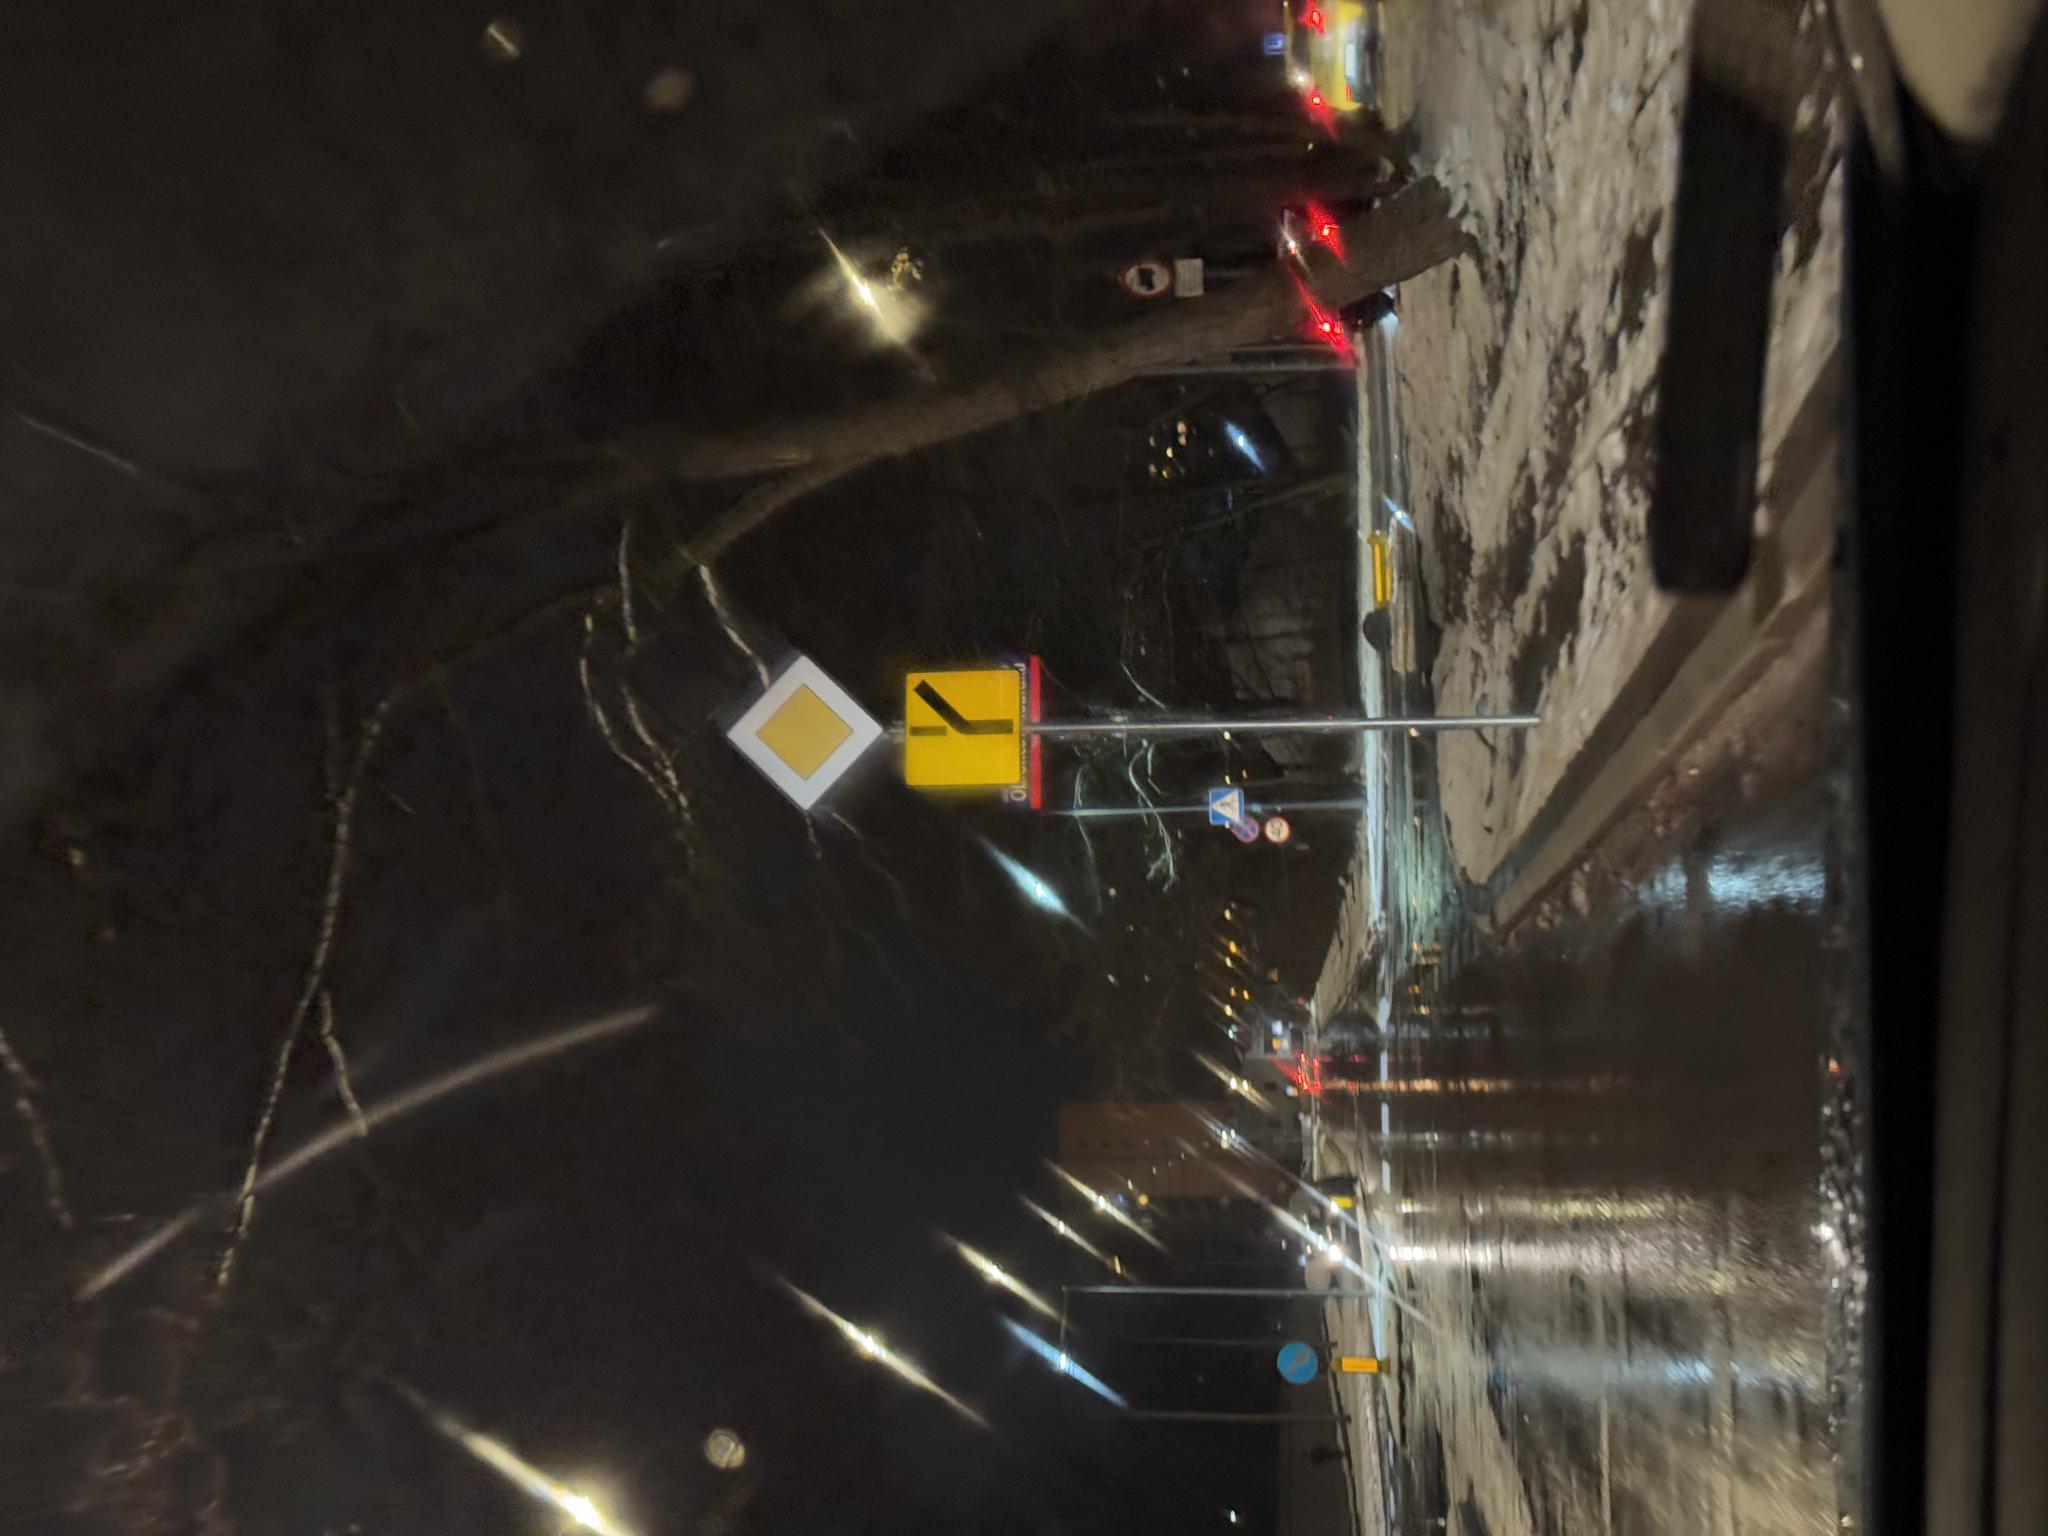information: (725, 726, 883, 882), (712, 1209, 750, 1245)
mandatory: (152, 1276, 194, 1320)
other: (748, 904, 868, 1022), (1238, 1174, 1278, 1204)
prohibitory: (1237, 1119, 1277, 1173), (692, 1233, 720, 1259), (693, 1265, 719, 1291)
